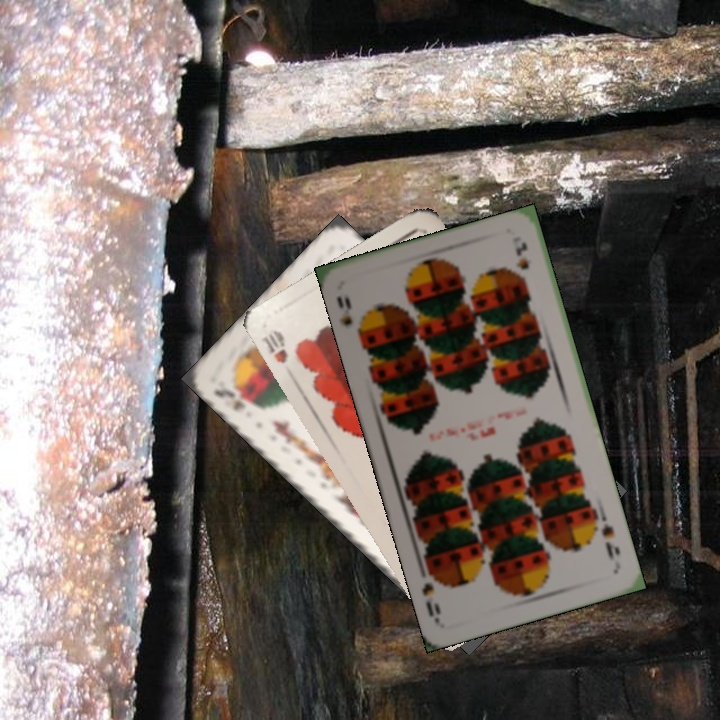H10: (257, 325, 291, 367)
S9: (333, 292, 365, 342), (597, 519, 623, 564)
SK: (210, 382, 259, 414)
